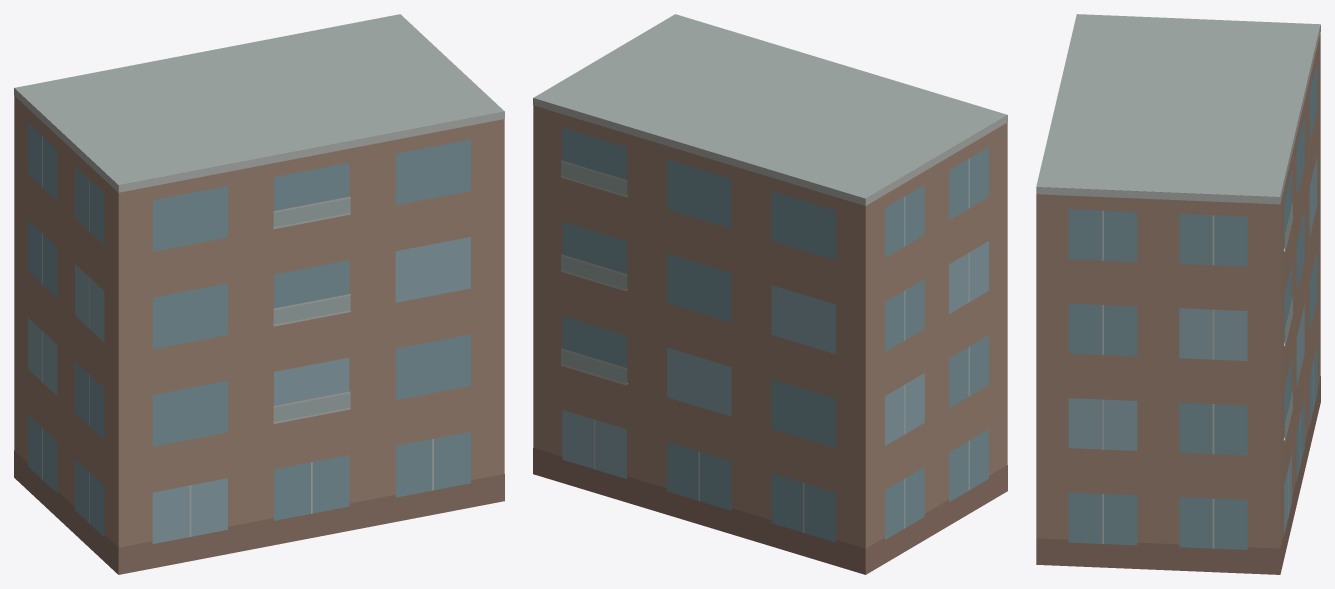
Rendered from survey-upis-32589102.glb.
3 views of the same model, side by side, from view 1: azimuth 30°, elevation 25°; view 2: azimuth 150°, elevation 25°; view 3: azimuth 270°, elevation 25° (orthographic). The views are drawn at different scales.
Visible parts, largest first — view 1: survey-upis-32589102.tmp; view 2: survey-upis-32589102.tmp; view 3: survey-upis-32589102.tmp.
Part boxes in pixels (x1=…): survey-upis-32589102.tmp: x1=14, y1=14, x2=504, y2=574; survey-upis-32589102.tmp: x1=533, y1=14, x2=1007, y2=574; survey-upis-32589102.tmp: x1=1036, y1=14, x2=1320, y2=574.
Size of the model in its own units: 12.99 by 12.5 by 8.54.
